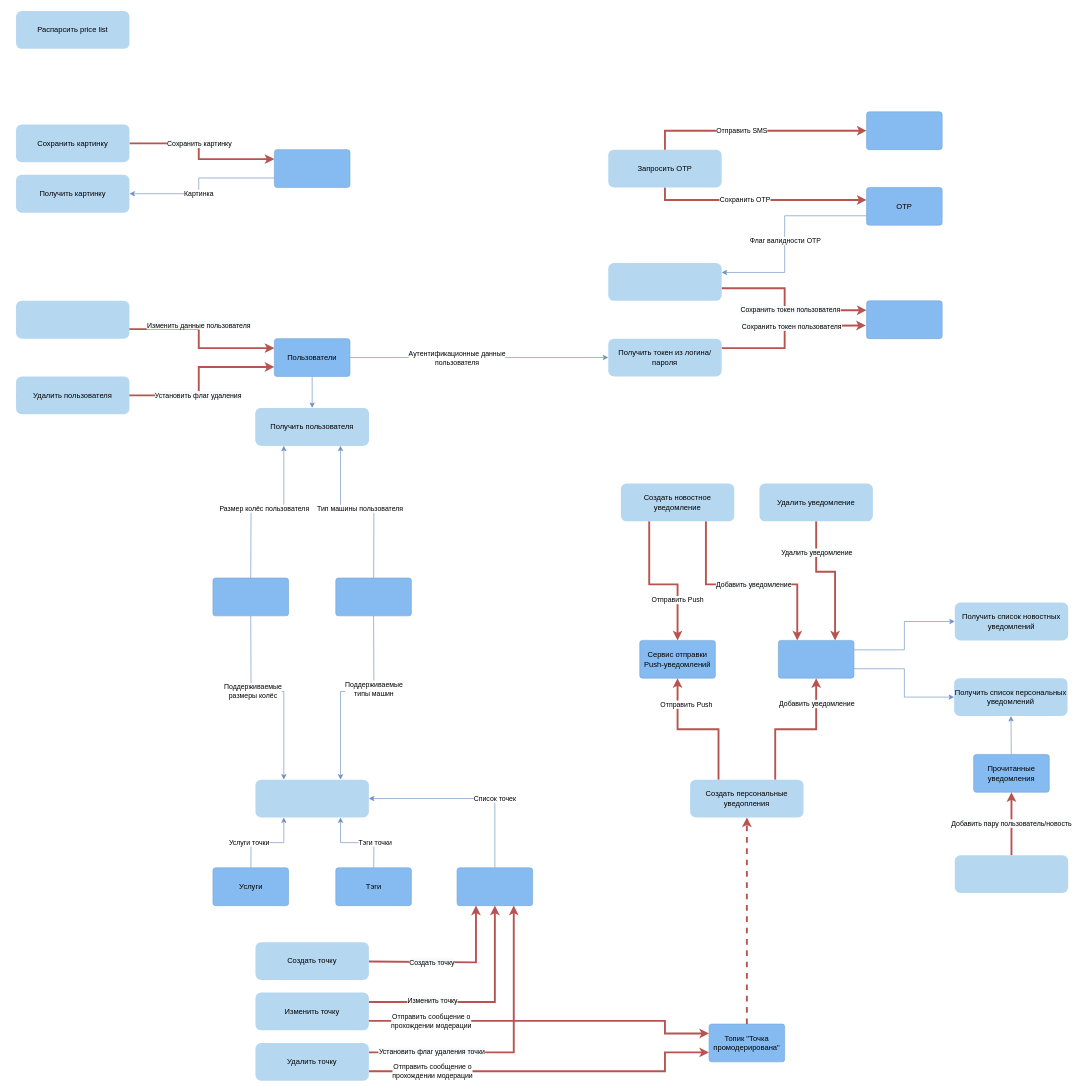
The diagram is 1082 pixels wide and 1091 high, and some of its shapes have lost their labels. Each missing label, with the centre of its shape:
Изменить пользователя: (72,319)
Картинки: (312,168)
Получить токен из отп: (664,282)
Получить точки: (312,798)
Прочитать уведомление: (1011,874)
Размер колес: (250,596)
Сервис отправки СМС: (904,130)
Типы машин: (373,596)
Токены: (904,319)
Точки на карте: (494,886)
Уведомления: (816,659)
